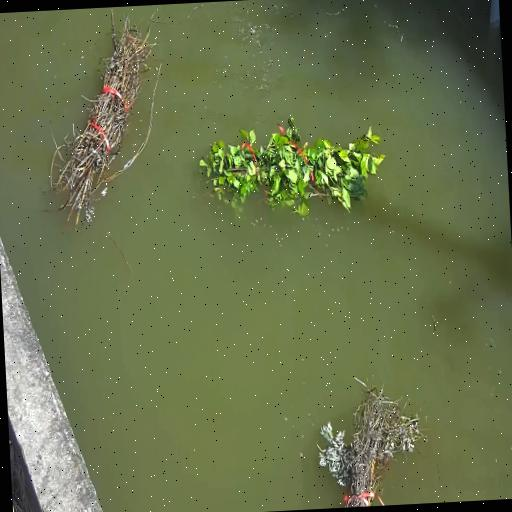twig: (38, 12, 174, 226), (196, 110, 384, 226), (316, 372, 433, 508)
